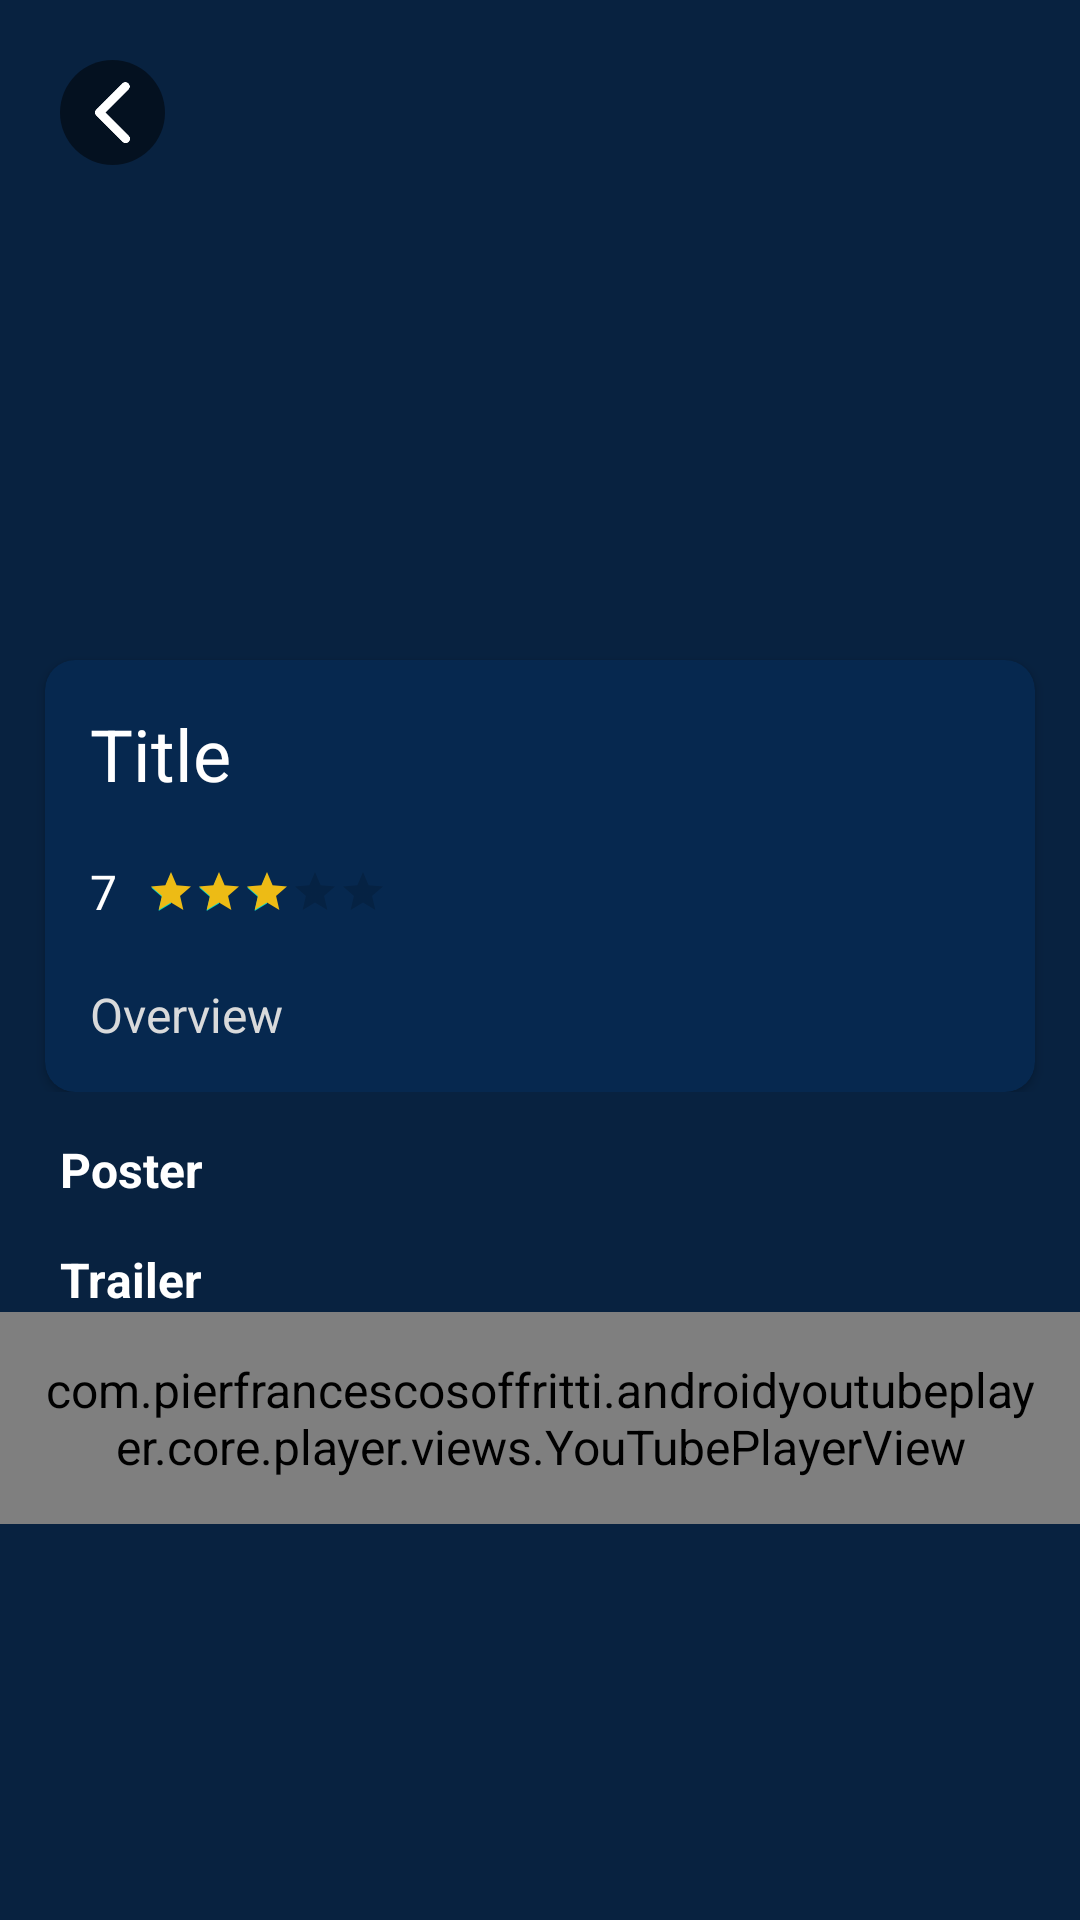

Icons on this 1080px x 1920px Android screen, each with the point to tap as [x,y]:
back arrow: [112,112]
